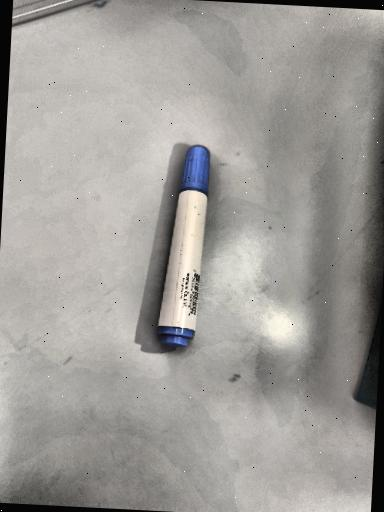marcador azul: (157, 145, 210, 347), (229, 374, 240, 381)
